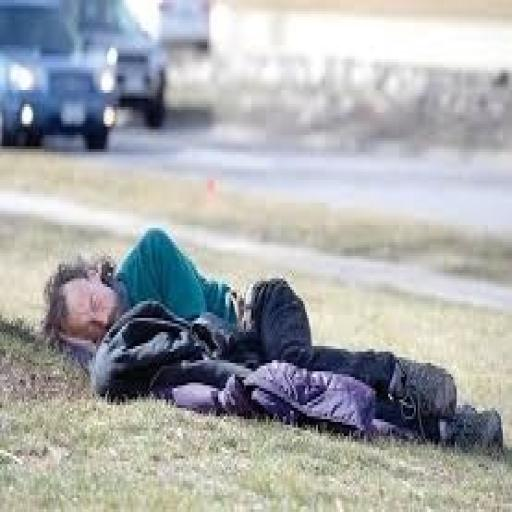sleeping: (40, 222, 504, 456)
